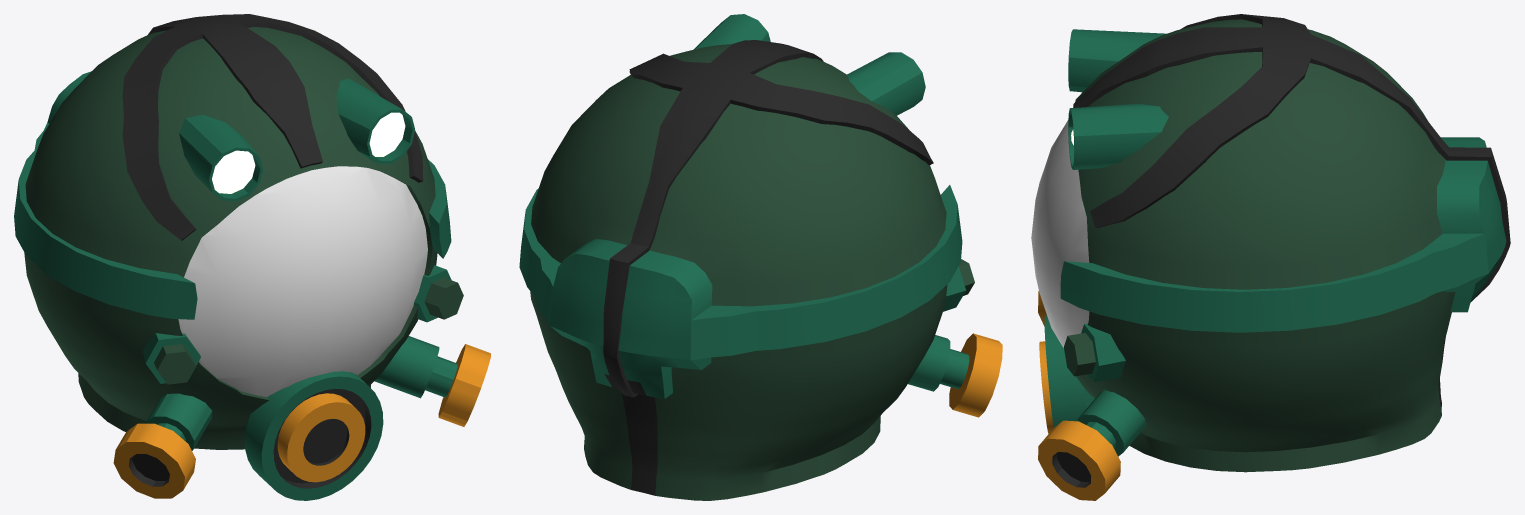
Rendered from player_helmet.fbx.
3 views of the same model, side by side, from view 1: azimuth 30°, elevation 25°; view 2: azimuth 150°, elevation 25°; view 3: azimuth 270°, elevation 25° (orthographic). The views are drawn at different scales.
Visible parts, largest first — view 1: player_helmet; view 2: player_helmet; view 3: player_helmet.
Part boxes in pixels (bbox=[...]): player_helmet: bbox=[14, 14, 490, 500]; player_helmet: bbox=[519, 14, 1002, 500]; player_helmet: bbox=[1031, 14, 1510, 500].
Size of the model in its own units: 0.6151 by 0.6306 by 0.6556.
